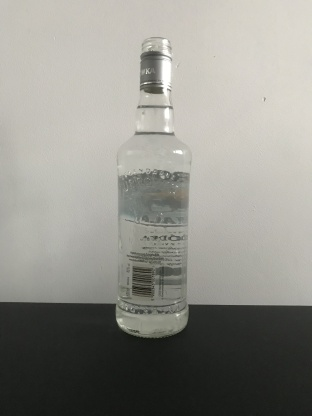nakretka: (137, 34, 174, 95)
